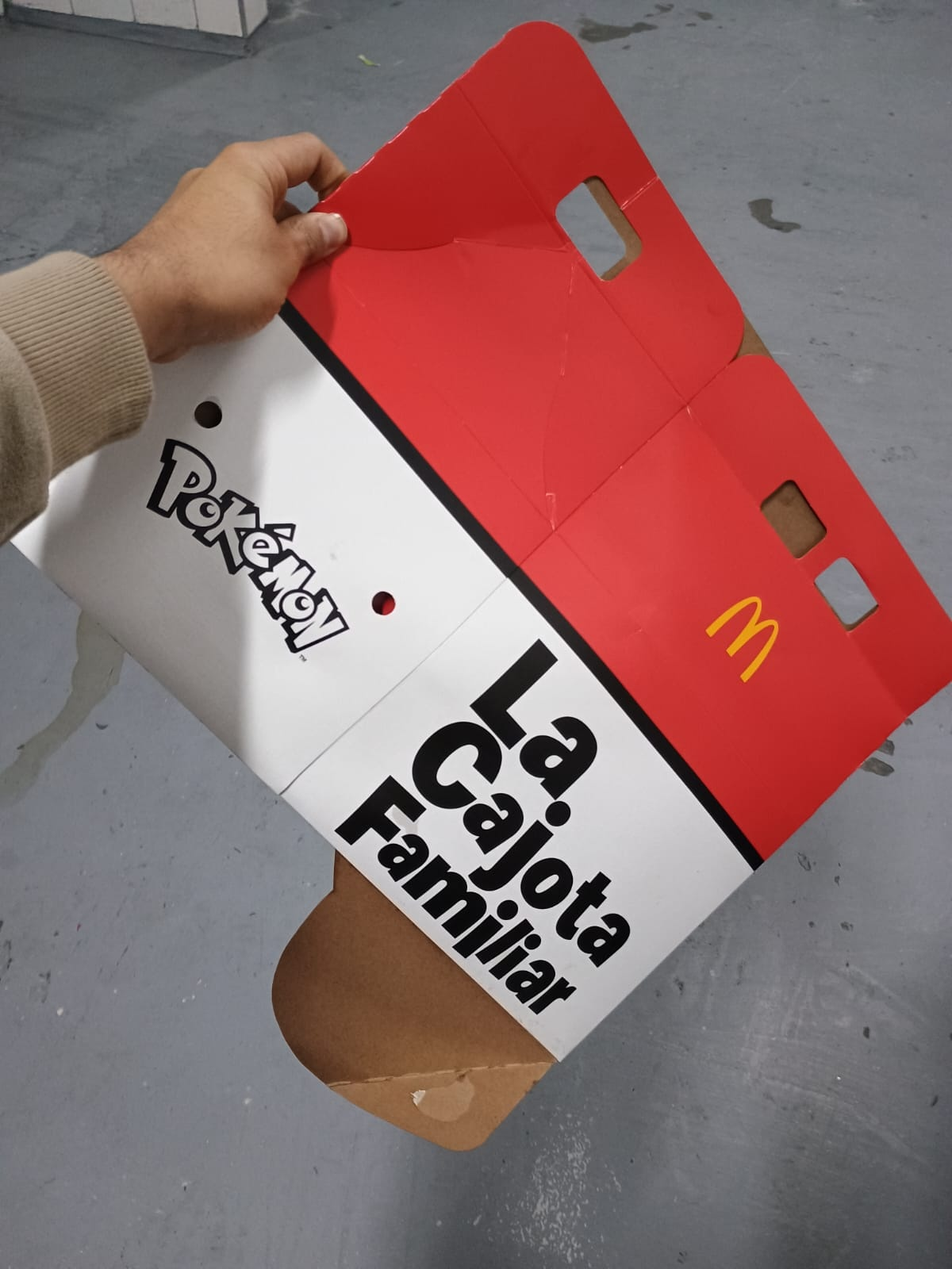Carton: (4, 23, 952, 1154)
